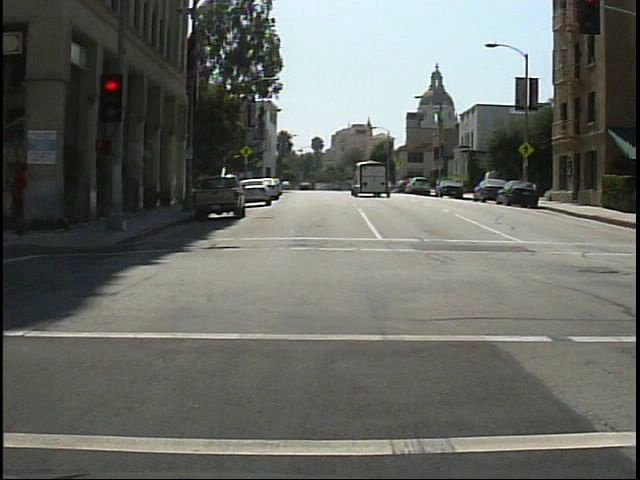person: (5, 156, 46, 238)
